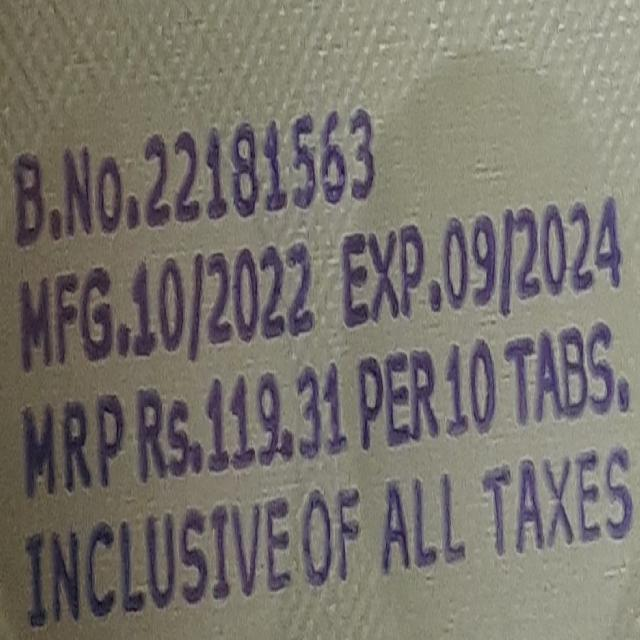sentence: (22, 445, 635, 627), (21, 322, 630, 495), (20, 198, 622, 371), (14, 108, 375, 247)
